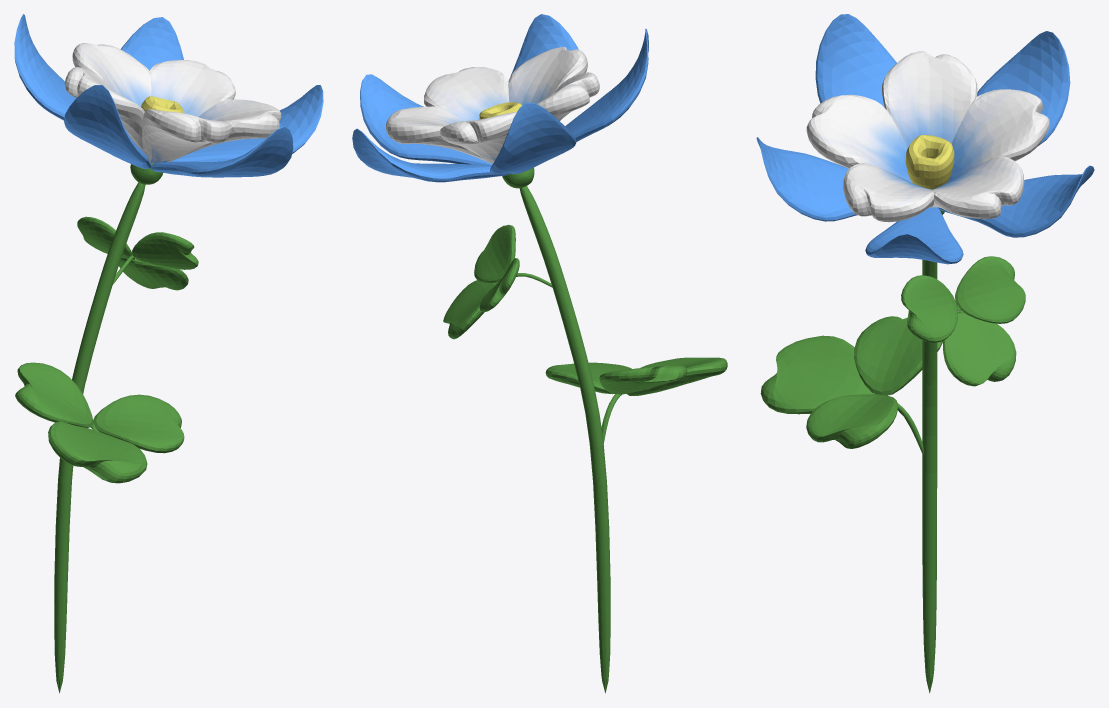
File: Sadness_Aquilegia.glb
3 renders of one model, left to right at view 1: azimuth 30°, elevation 25°; view 2: azimuth 150°, elevation 25°; view 3: azimuth 270°, elevation 25°, orthographic. The views are drawn at different scales.
Visible parts, largest first — view 1: Cylinder.002; view 2: Cylinder.002; view 3: Cylinder.002.
Part boxes in pixels (<box>): Cylinder.002: <box>14,14,323,693</box>; Cylinder.002: <box>352,14,727,693</box>; Cylinder.002: <box>756,14,1094,693</box>.
Bounding box in the file's own units: 9.32 × 18.2 × 8.2.
4 materials, 1 textured.
